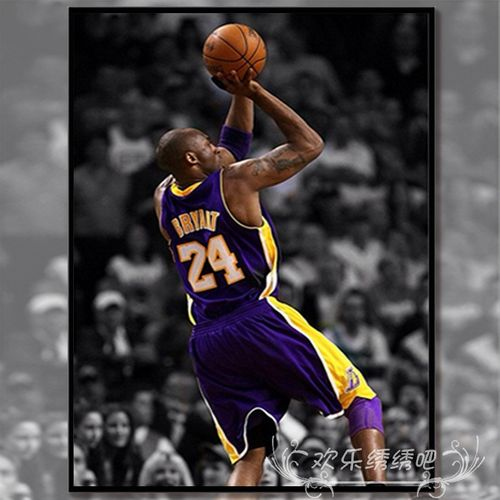ball: (203, 24, 267, 86)
